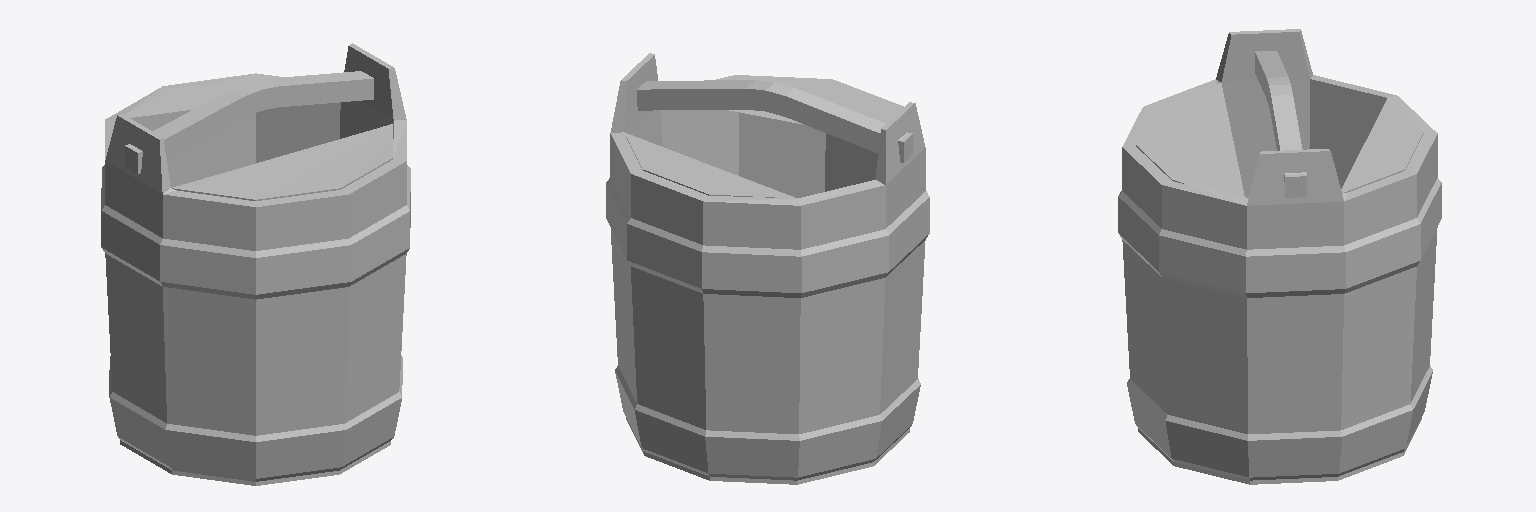
File: bucket.obj
The picture shows the model from 3 angles: view 1: azimuth 30°, elevation 25°; view 2: azimuth 150°, elevation 25°; view 3: azimuth 270°, elevation 25°; orthographic projection.
Visible parts, largest first — view 1: pCube201; view 2: pCube201; view 3: pCube201.
Part boxes in pixels (x1,y1,x2,y2): pCube201: (101, 43, 410, 485); pCube201: (606, 53, 929, 484); pCube201: (1118, 29, 1441, 484).
Size of the model in its own units: 101 by 120 by 103.